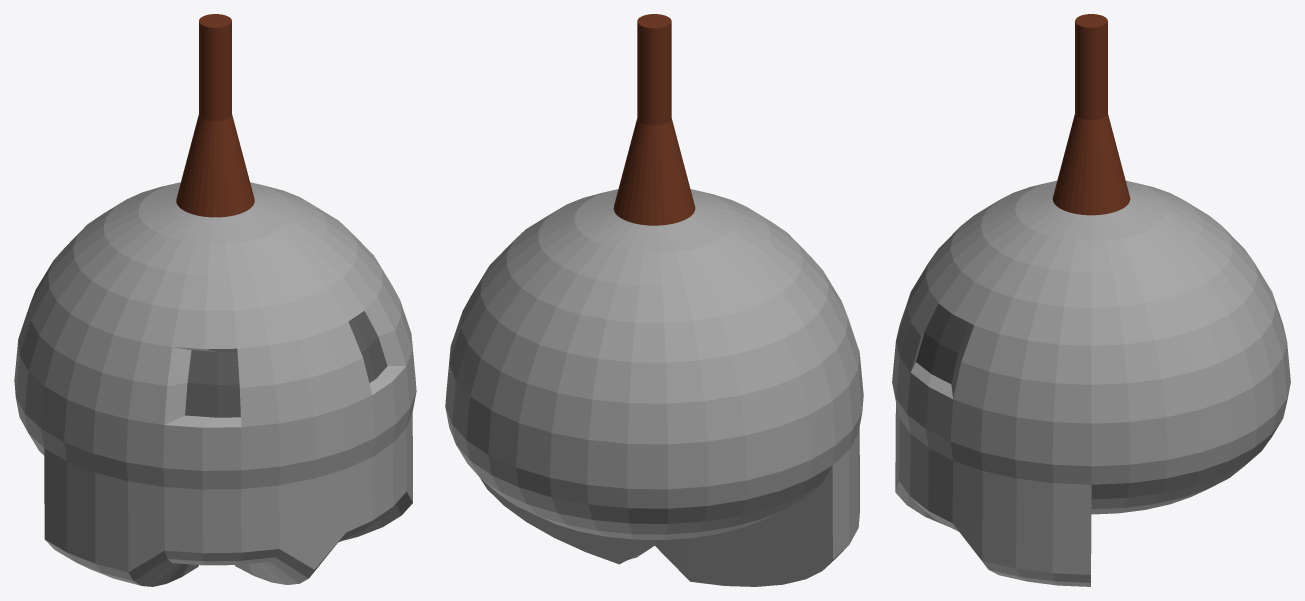
File: DarkBerry.fbx
The picture shows the model from 3 angles, left to right: view 1: azimuth 30°, elevation 25°; view 2: azimuth 150°, elevation 25°; view 3: azimuth 270°, elevation 25°; orthographic projection. The views are drawn at different scales.
Parts seen in each view (by area): view 1: Sphere; view 2: Sphere; view 3: Sphere.
Boxes of the visible parts, box(x1,y1,x2,y2) form: Sphere: box(14, 14, 416, 586); Sphere: box(445, 14, 863, 586); Sphere: box(892, 14, 1290, 586).
Size of the model in its own units: 200 by 291 by 200.
